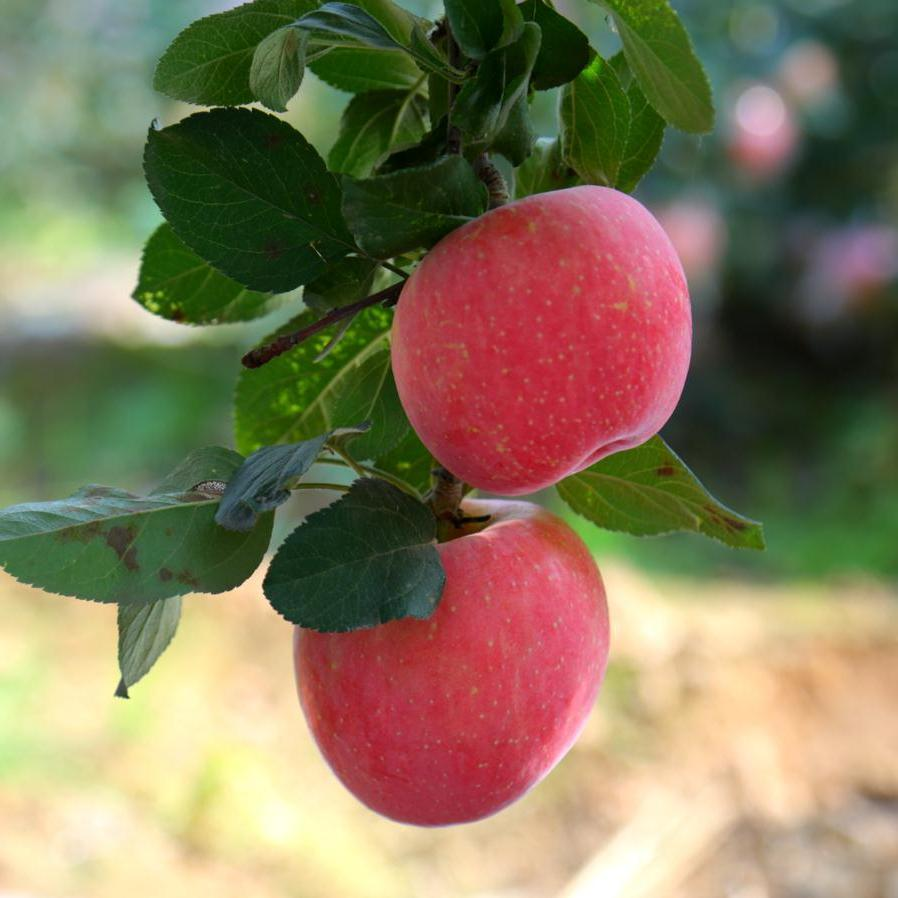apple: (285, 498, 612, 833), (390, 182, 700, 501)
